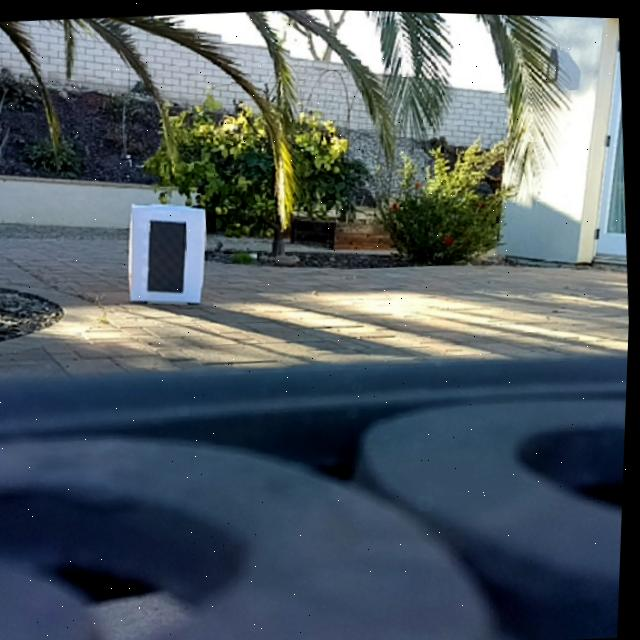led: (142, 213, 193, 296)
